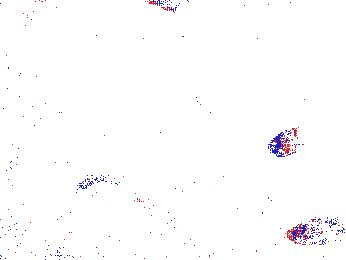X-ray fish: (289, 218, 346, 250), (269, 123, 305, 158), (252, 183, 276, 215), (121, 178, 140, 214)
